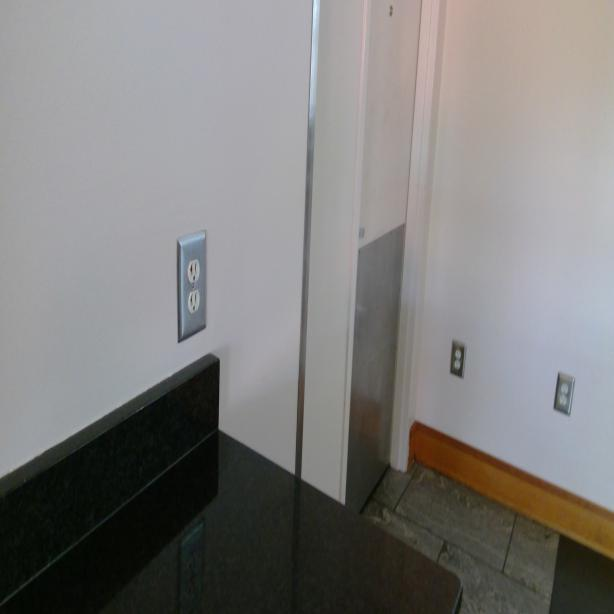typeb: (187, 258, 200, 282), (187, 292, 201, 311)
